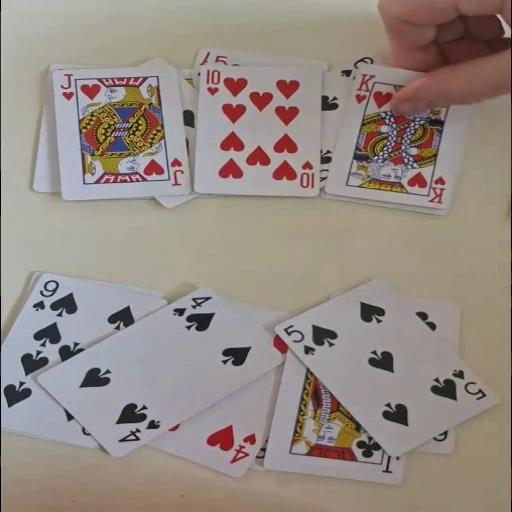10: (298, 159, 316, 189), (203, 68, 221, 96)
4: (113, 416, 163, 444), (226, 430, 259, 464), (169, 294, 214, 317)
5: (448, 366, 489, 402), (281, 323, 318, 356)
9: (28, 277, 61, 312)
J: (168, 156, 186, 187), (58, 72, 76, 102)
K: (352, 71, 378, 105), (425, 173, 448, 205)
